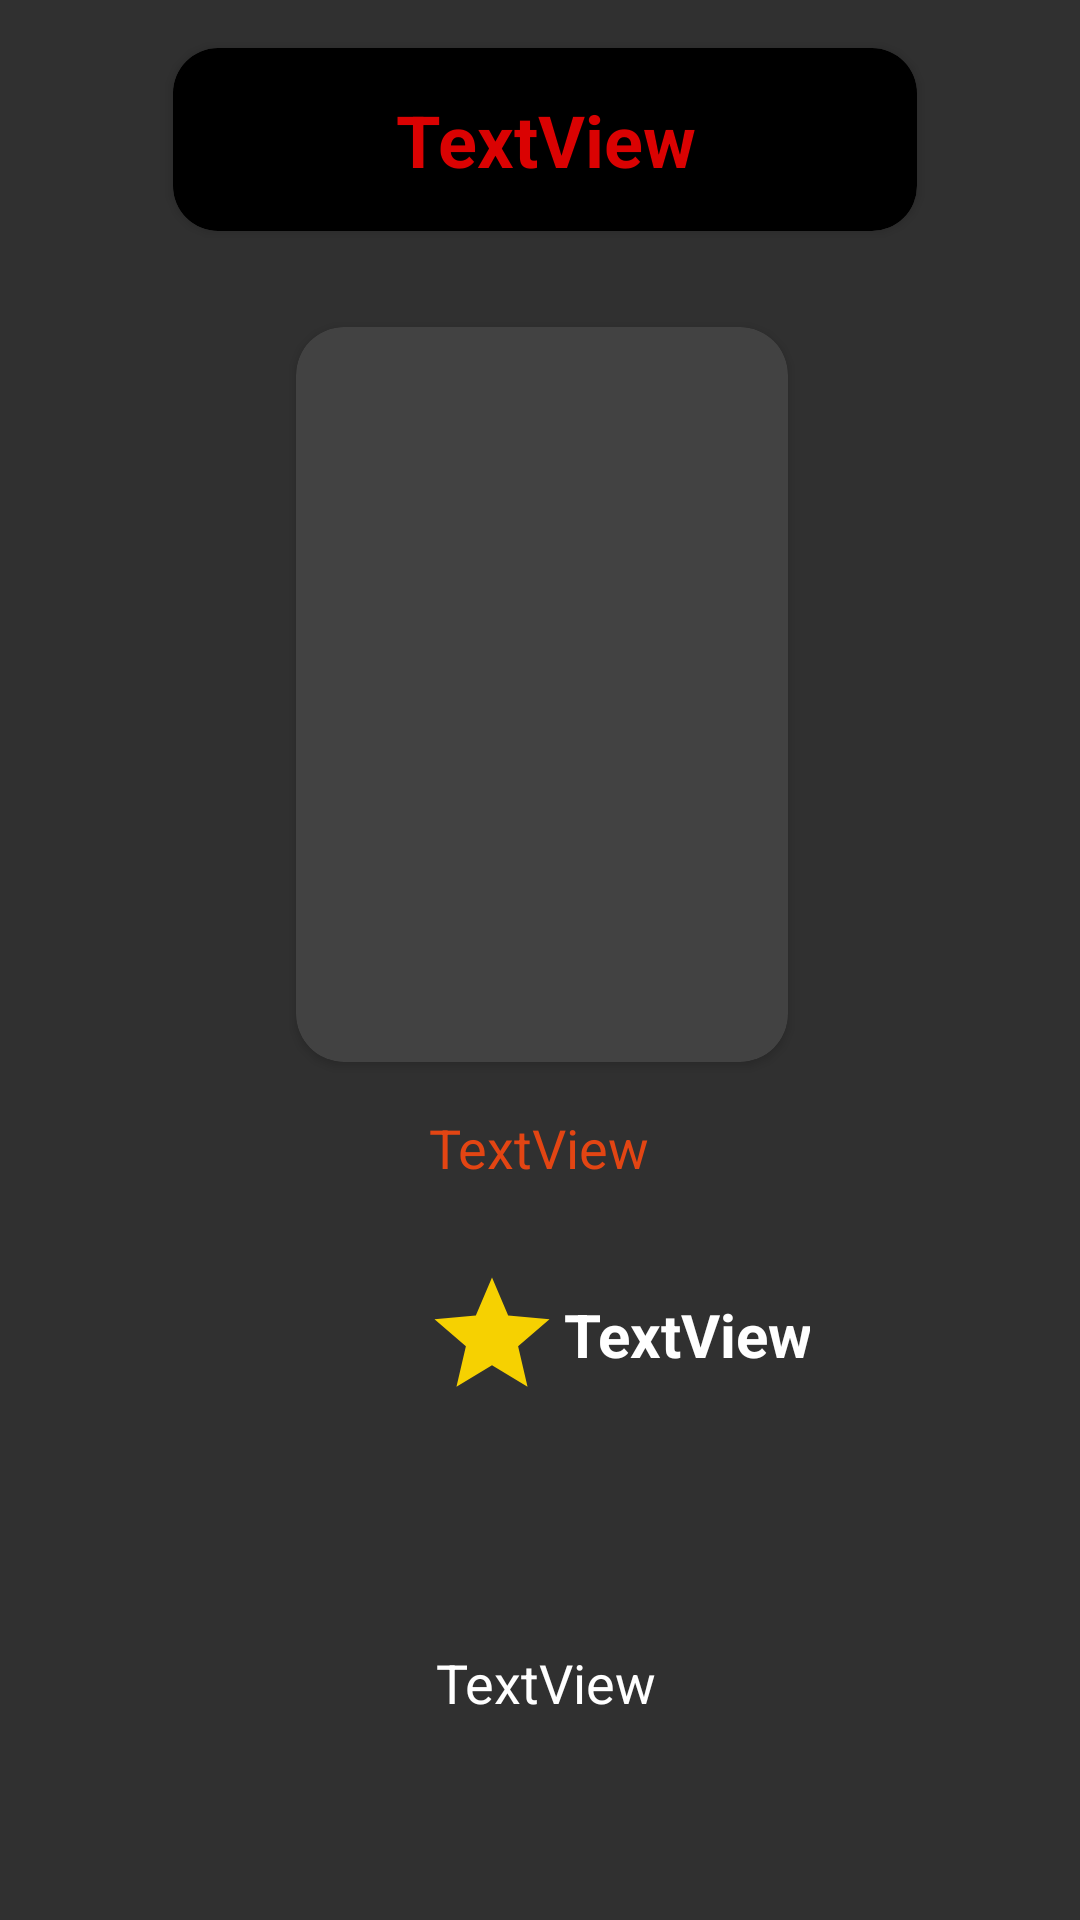

Where icons sit on this 1080px x 1920px app screen, as (x1, y1, x2, y2):
star: (435, 1278, 549, 1387)
